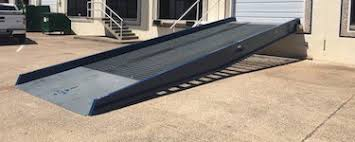Yard Ramp: (14, 17, 303, 118)
